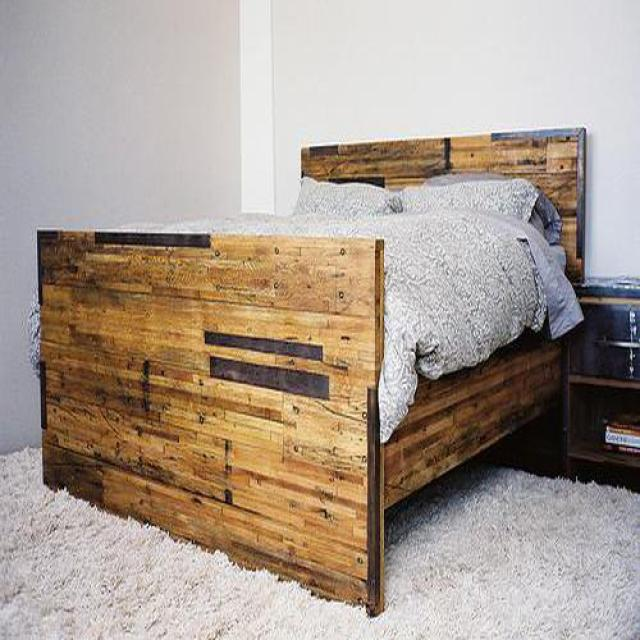bed: (38, 128, 588, 618)
